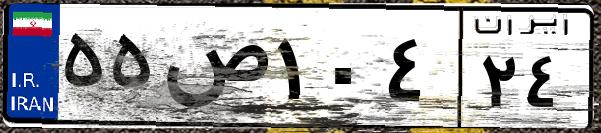0: (330, 28, 385, 110)
1: (270, 28, 330, 110)
2: (475, 38, 525, 113)
4: (385, 28, 445, 110), (525, 38, 570, 115)
5: (57, 26, 110, 100), (110, 28, 158, 98)
ص: (158, 20, 270, 120)
